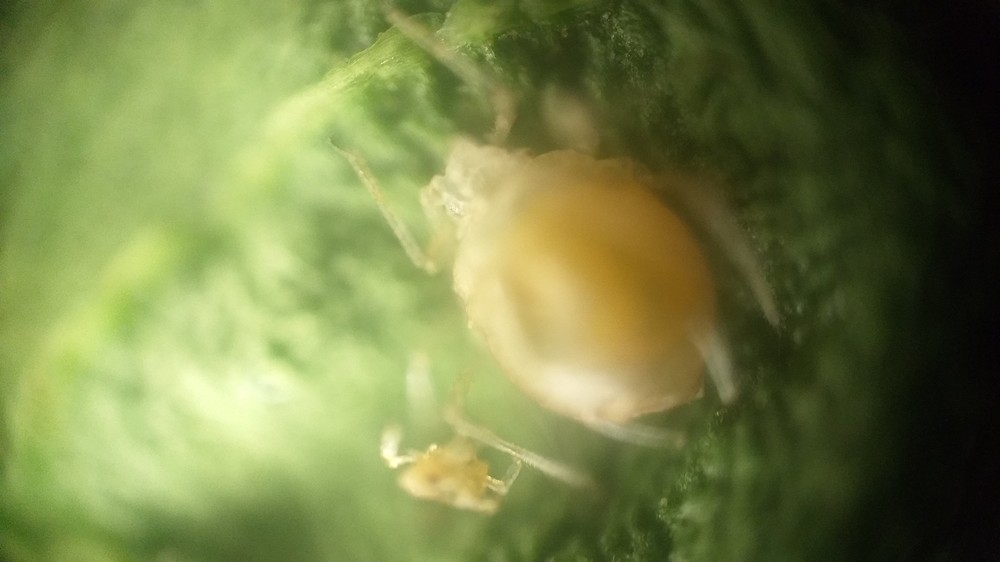Pulgon: (330, 29, 809, 478)
